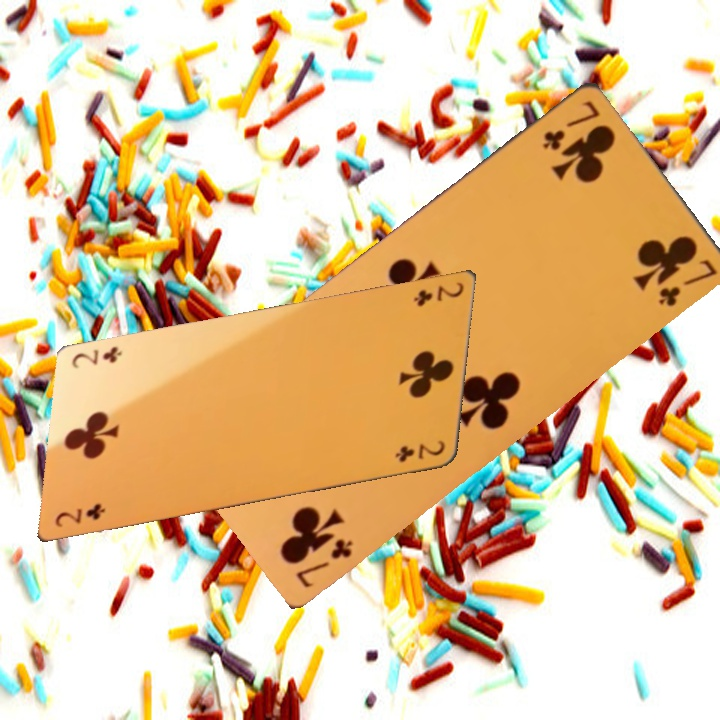2c: (404, 279, 465, 310), (387, 437, 448, 468), (64, 343, 125, 374), (47, 501, 108, 532)
7c: (524, 94, 601, 162), (642, 251, 719, 319), (283, 529, 360, 597)
